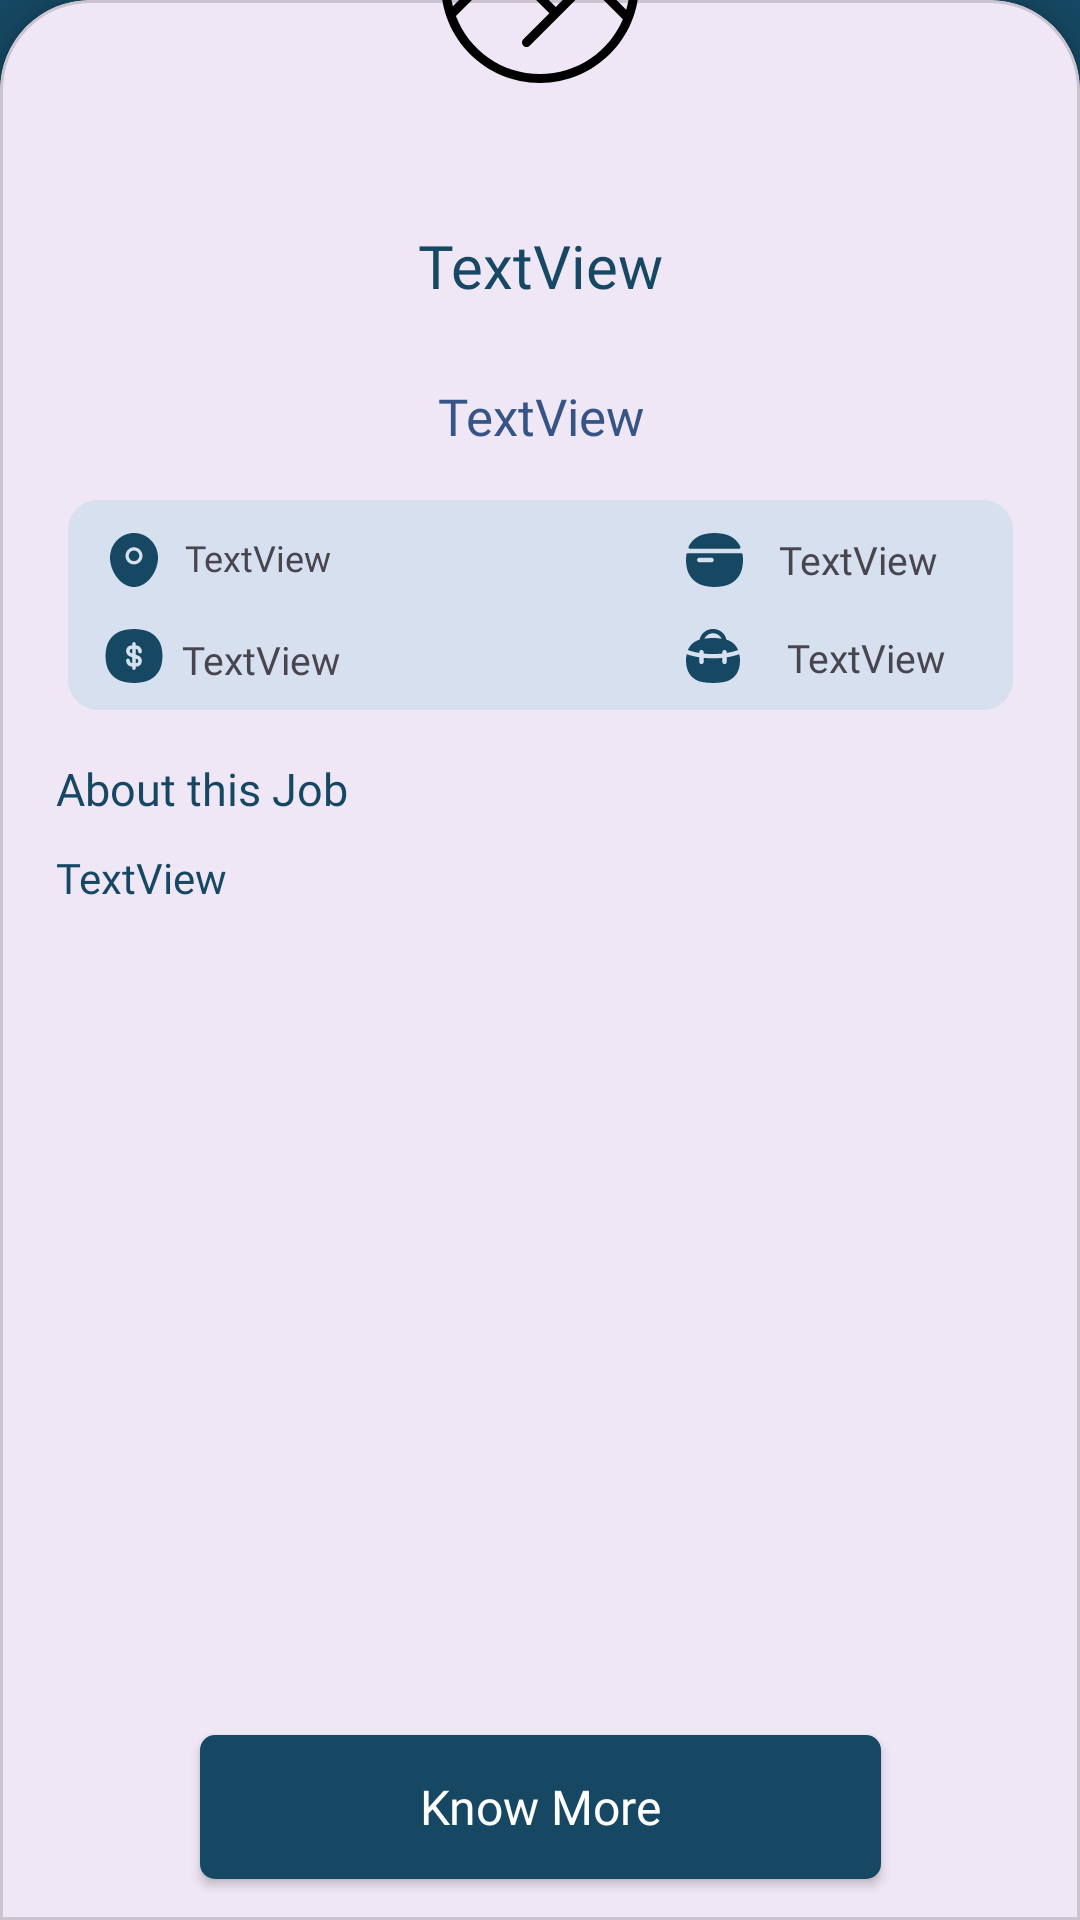

Icons on this 1080x1920 Android screen, each with its box as (x1, y1, x2, y2):
bag: (686, 629, 740, 683)
dollar: (105, 629, 163, 683)
location: (110, 533, 158, 587)
